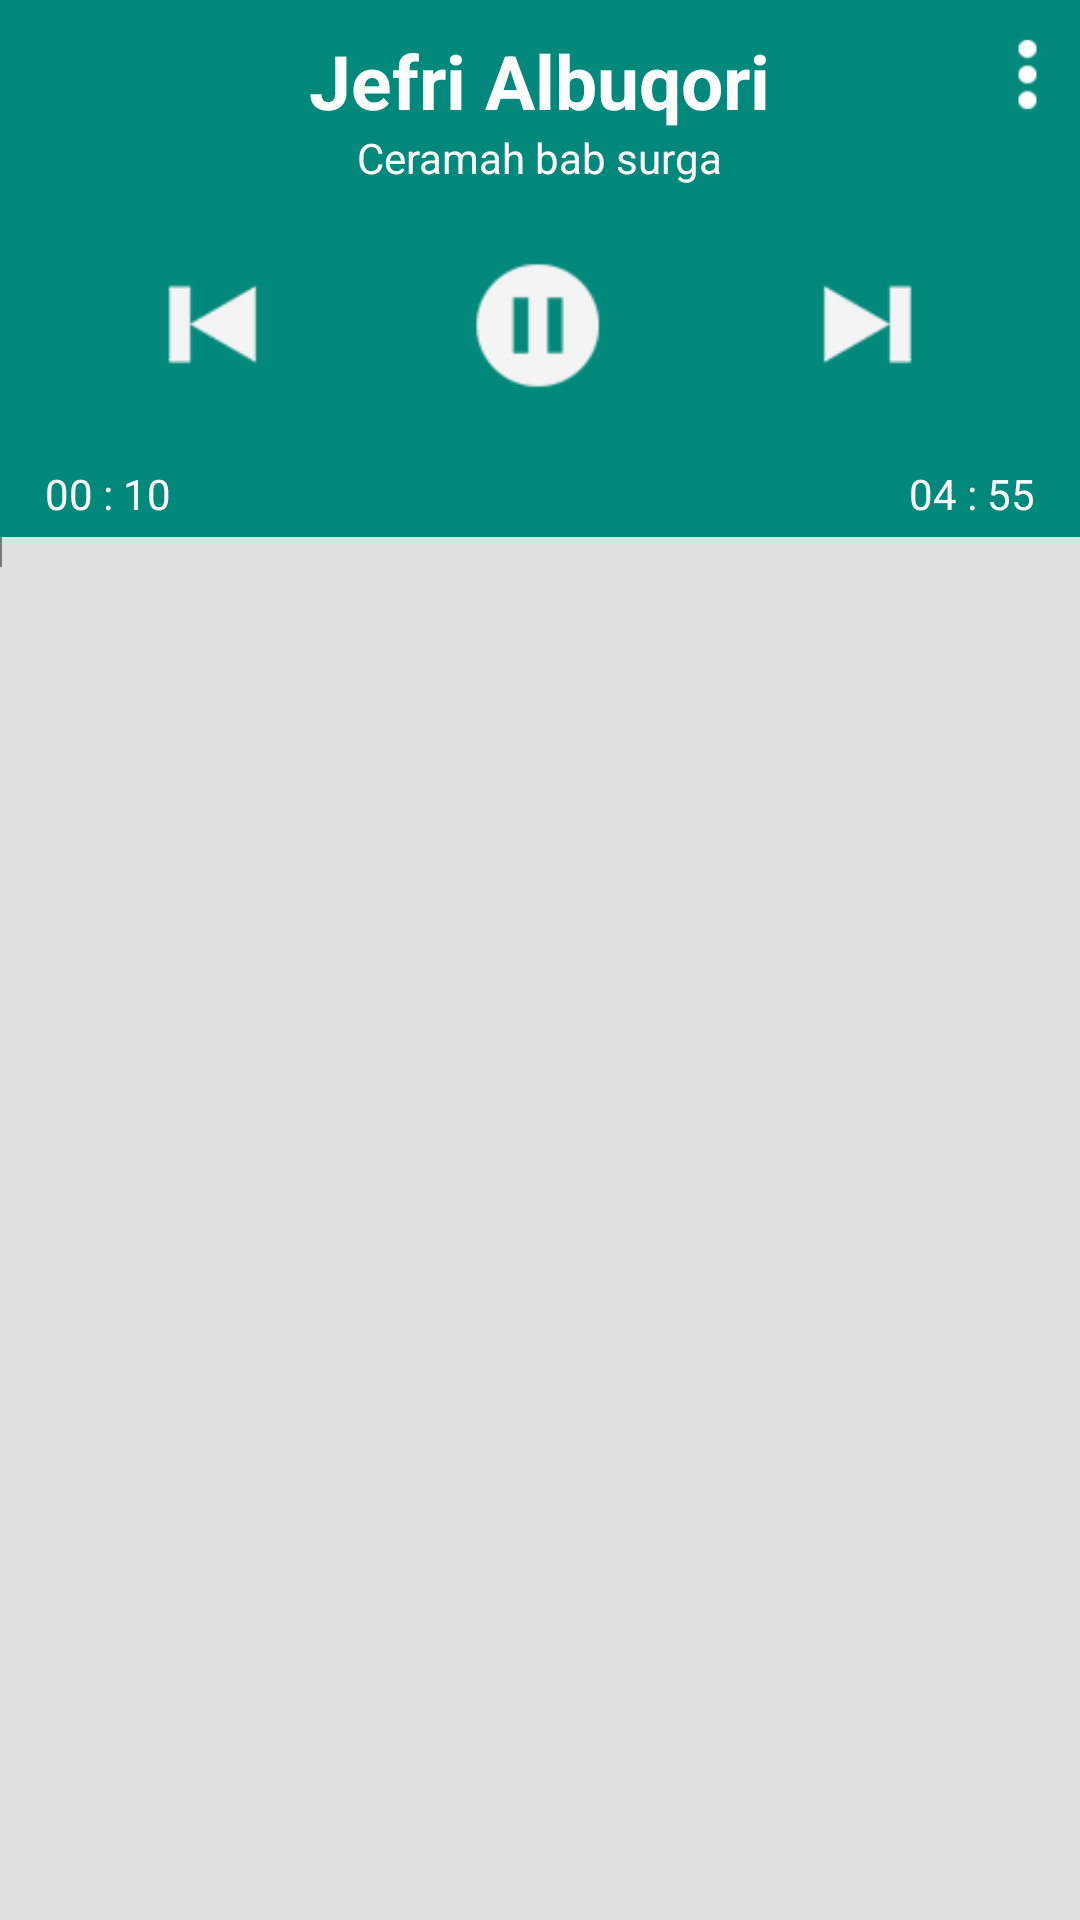

Locate icon controls on the screen. Image size 1080 × 1920, boxes as box=[x1, y1, x2, y2].
next: box=[823, 285, 912, 364]
pause: box=[476, 263, 600, 388]
prev: box=[168, 285, 257, 364]
three dots: box=[1018, 39, 1037, 110]
